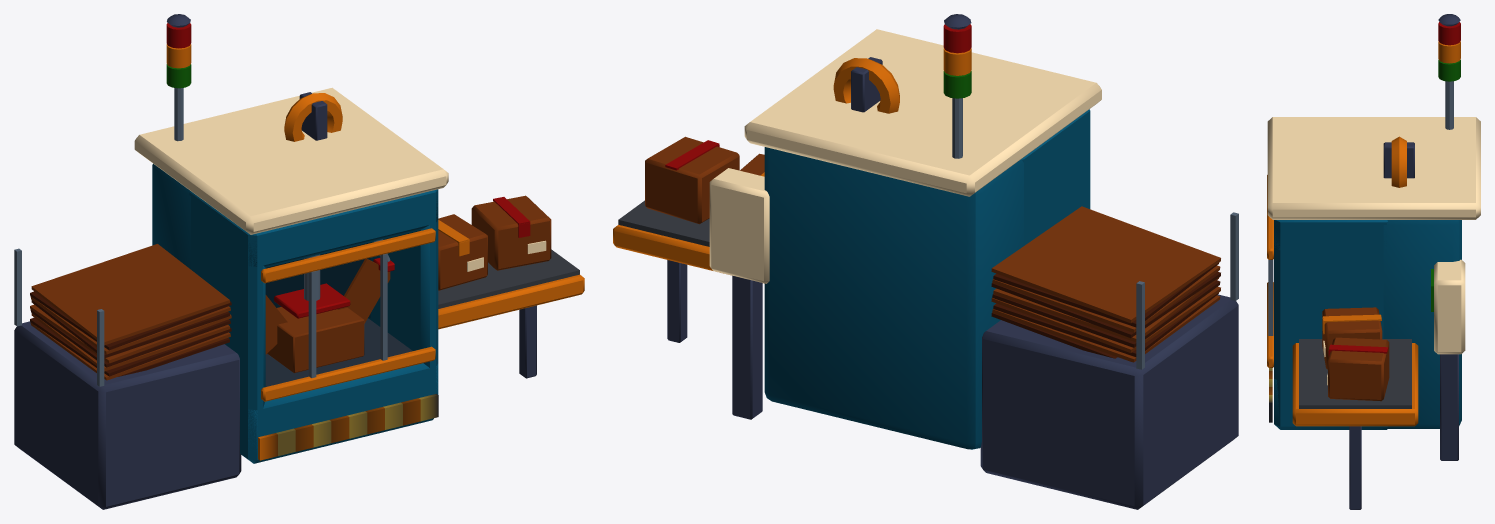
File: BoxingMachine.obj
3 views of the same model, side by side, from view 1: azimuth 30°, elevation 25°; view 2: azimuth 150°, elevation 25°; view 3: azimuth 270°, elevation 25° (orthographic). The views are drawn at different scales.
Visible parts, largest first — view 1: BoxingMachine; view 2: BoxingMachine; view 3: BoxingMachine.
Boxes of the visible parts, left/top/right/bottom form: BoxingMachine: left=14, top=14, right=584, bottom=509; BoxingMachine: left=613, top=14, right=1238, bottom=509; BoxingMachine: left=1267, top=14, right=1480, bottom=509.
Size of the model in its own units: 8.15 by 6.32 by 3.41.
